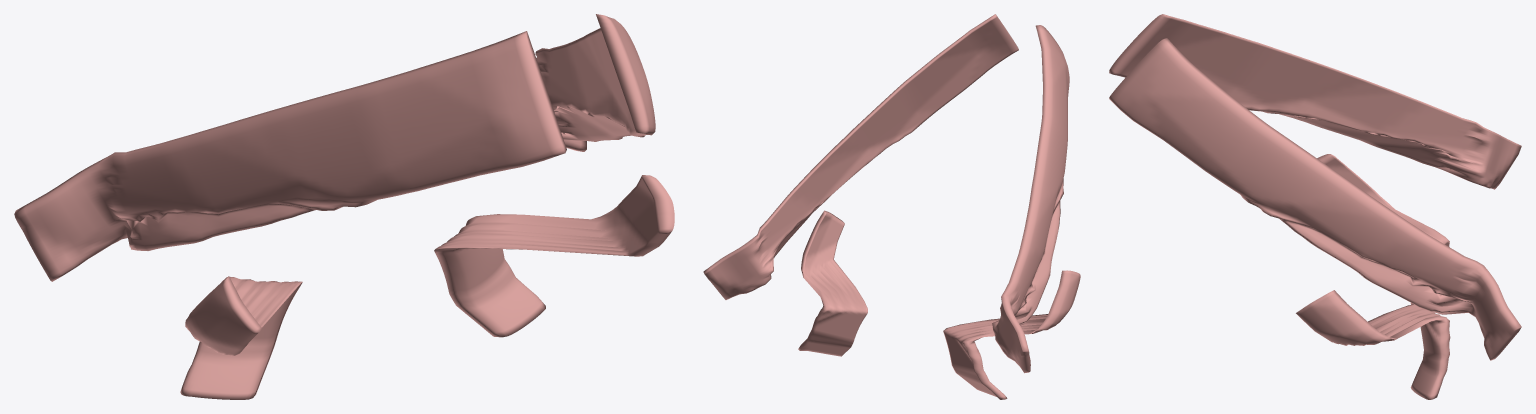
Rendered from nasalis.glb.
3 views of the same model, side by side, from view 1: azimuth 30°, elevation 25°; view 2: azimuth 150°, elevation 25°; view 3: azimuth 270°, elevation 25° (orthographic). The views are drawn at different scales.
Visible parts, largest first — view 1: nasalis_R, nasalis_L; view 2: nasalis_L, nasalis_R; view 3: nasalis_L, nasalis_R.
Part boxes in pixels (box(x1,y1,x2,y2)): nasalis_R: box(14, 31, 566, 399); nasalis_L: box(434, 14, 674, 337); nasalis_L: box(703, 14, 1018, 356); nasalis_R: box(943, 25, 1080, 399); nasalis_L: box(1109, 38, 1521, 399); nasalis_R: box(1109, 14, 1521, 304).
Bounding box in the file's own units: 0.0378 × 0.0305 × 0.0357.
